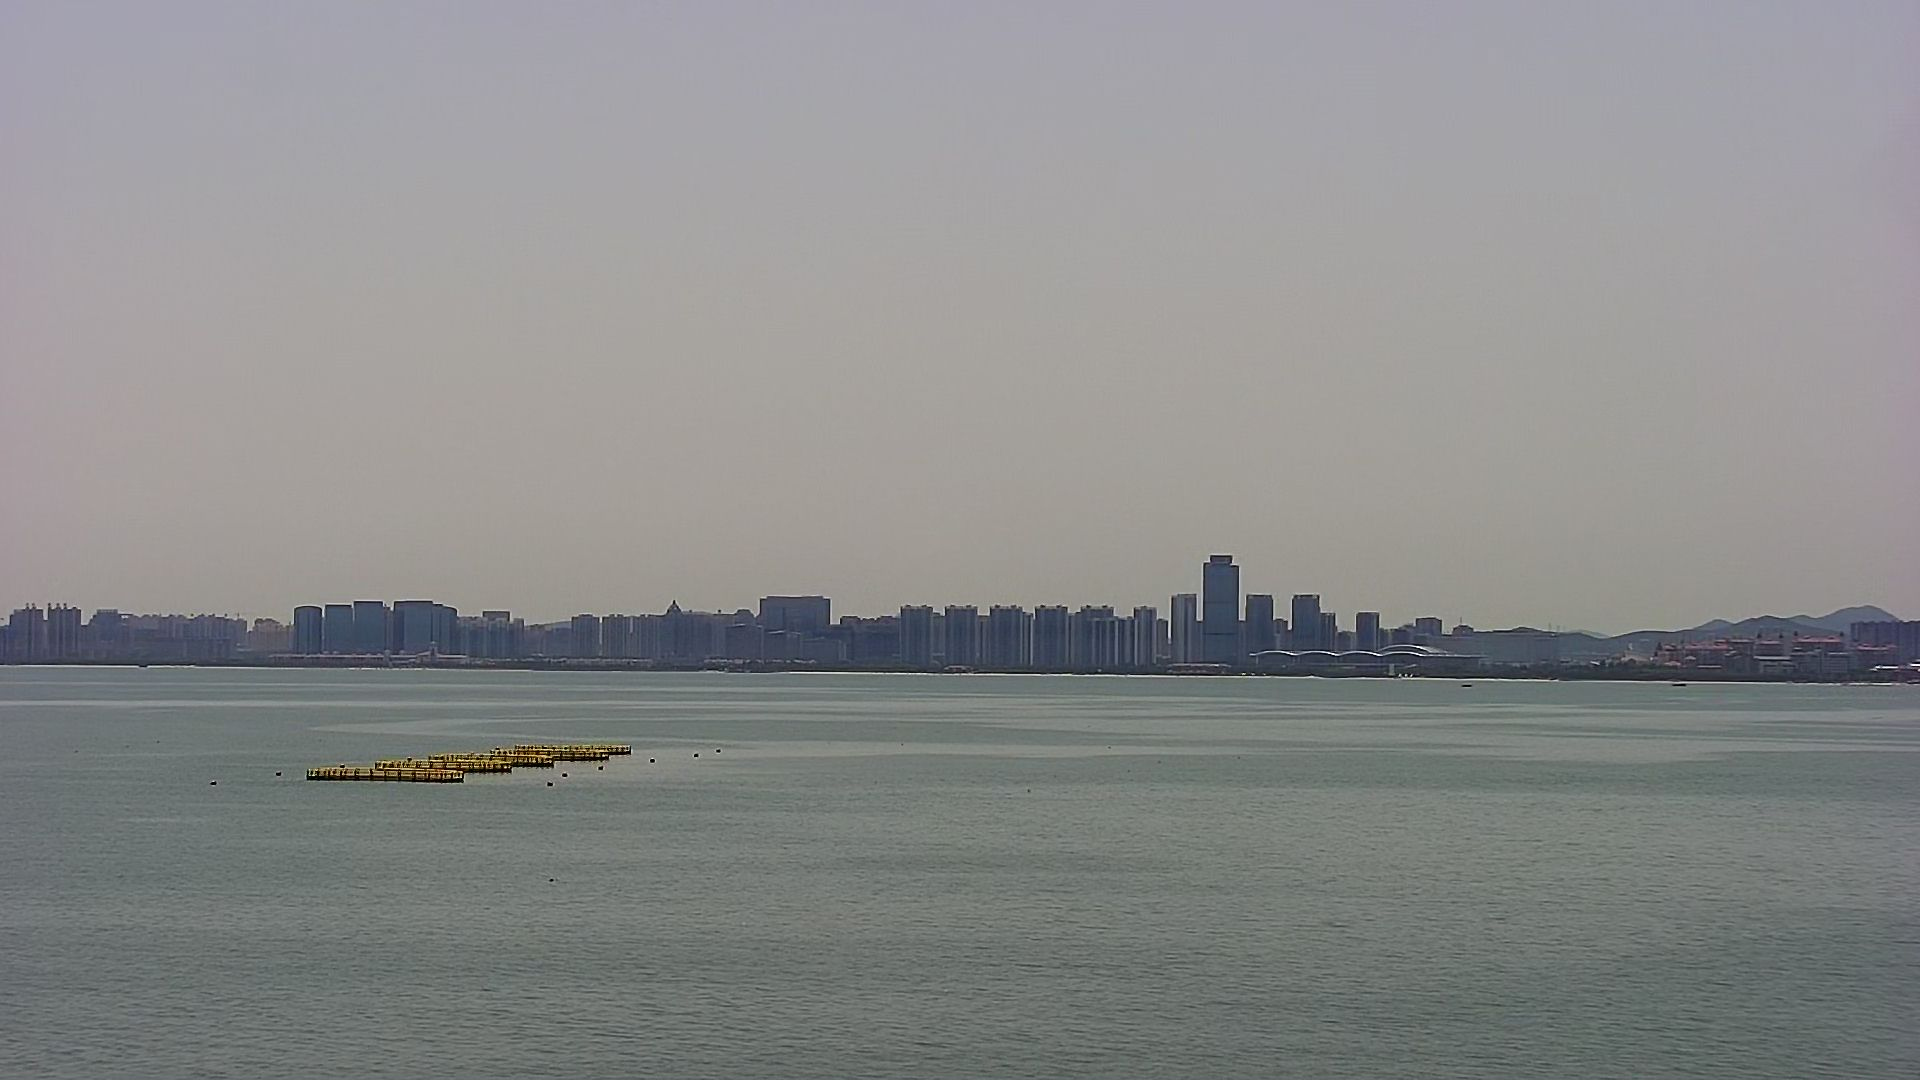platform: (303, 738, 633, 783)
